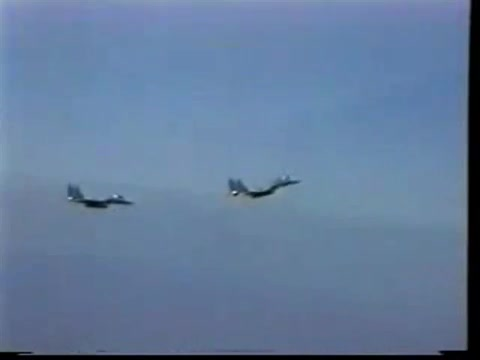aeroplane: (67, 181, 136, 214)
